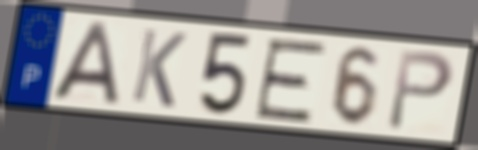5: (194, 29, 257, 118)
6: (330, 44, 383, 129)
A: (49, 20, 121, 106)
E: (251, 37, 330, 125)
K: (128, 25, 190, 111)
P: (384, 47, 456, 134)
